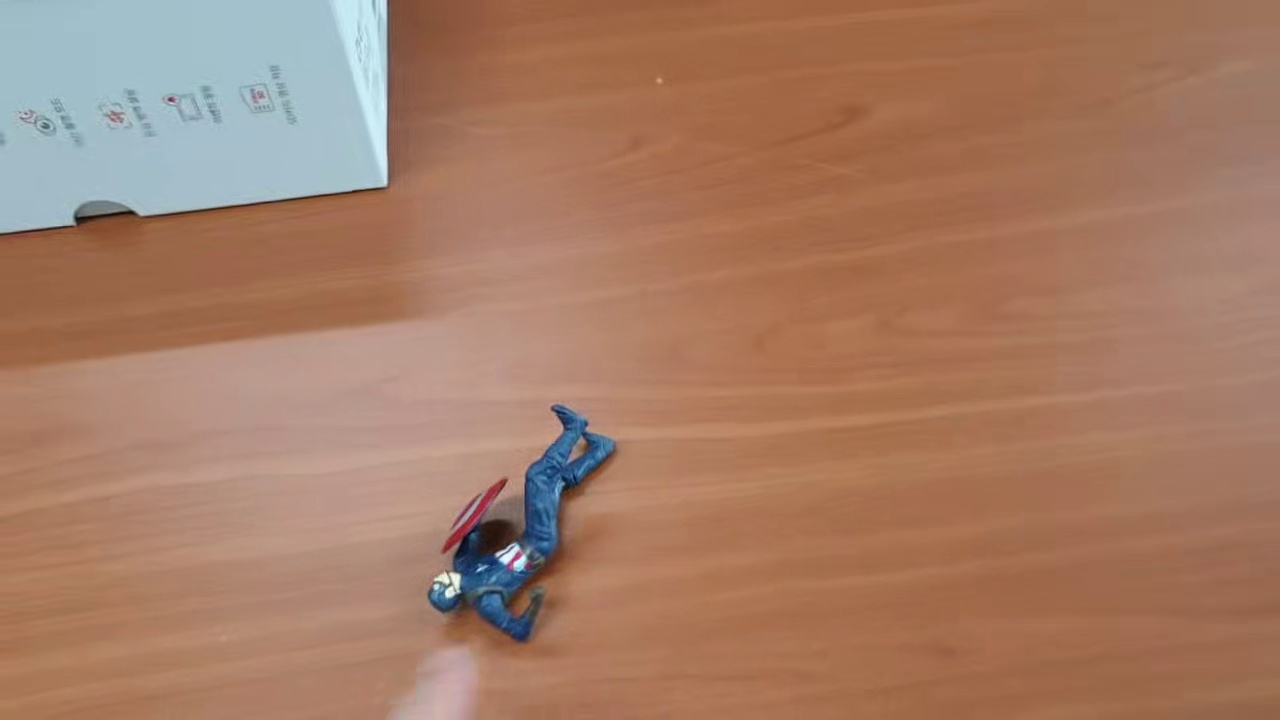people: (421, 399, 620, 647)
